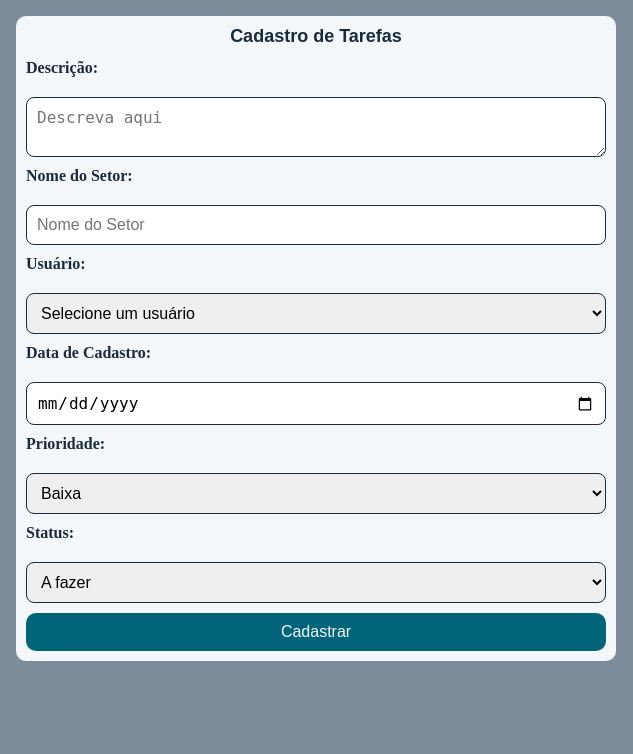
Test: Cadastro de Tarefas › deve mostrar erro se o nome do setor tiver menos de 4 caracteres
This screenshot has width=633, height=754.
Step 1. Type "ABC" into the field labelled "Nome do Setor:" → (316, 225), box [26, 205, 606, 245]
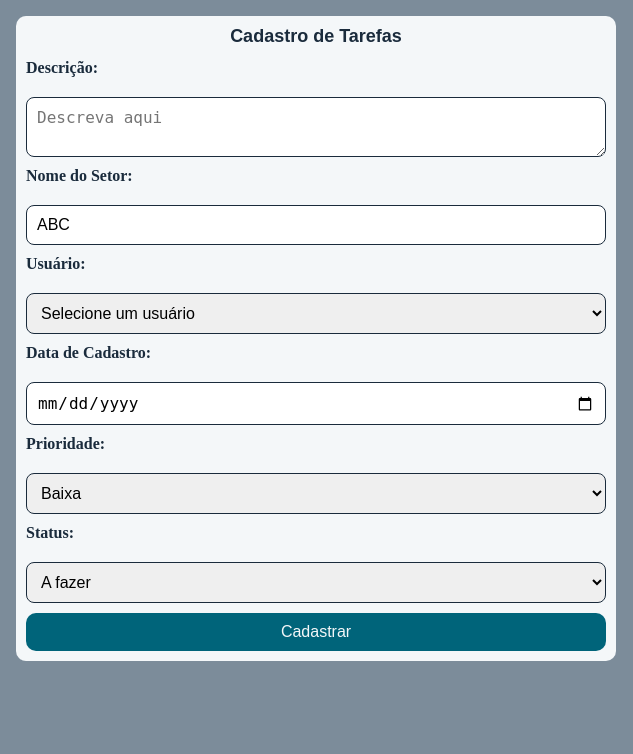
Step 2. Click the button "Cadastrar" → click(316, 632), box [26, 613, 606, 651]
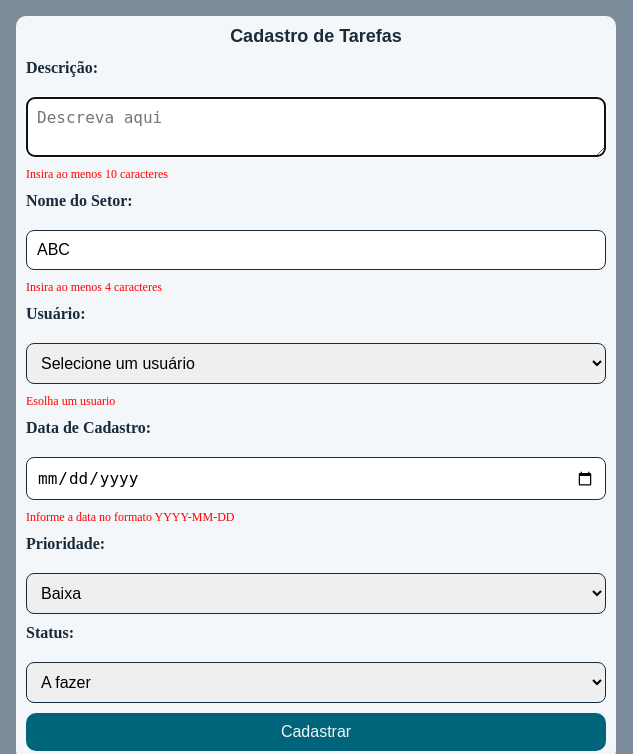
Expected: the text "Insira ao menos 4 caracteres" is shown, [26, 280, 162, 294]
